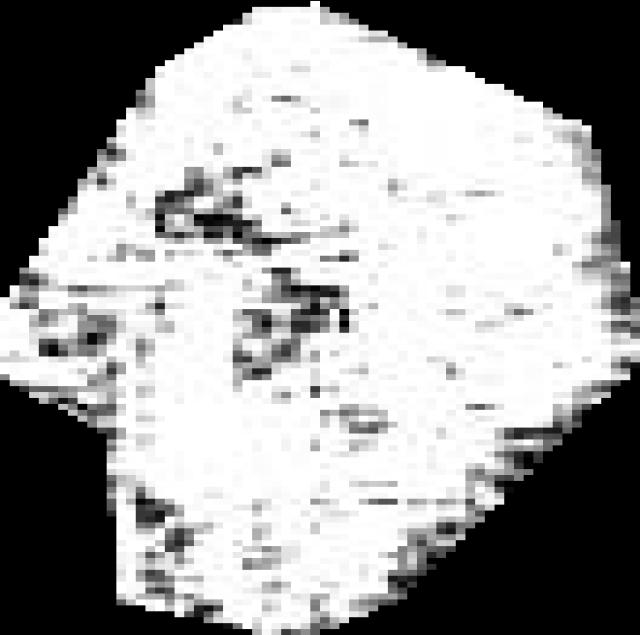tumor_good_chance: (0, 1, 640, 635)
